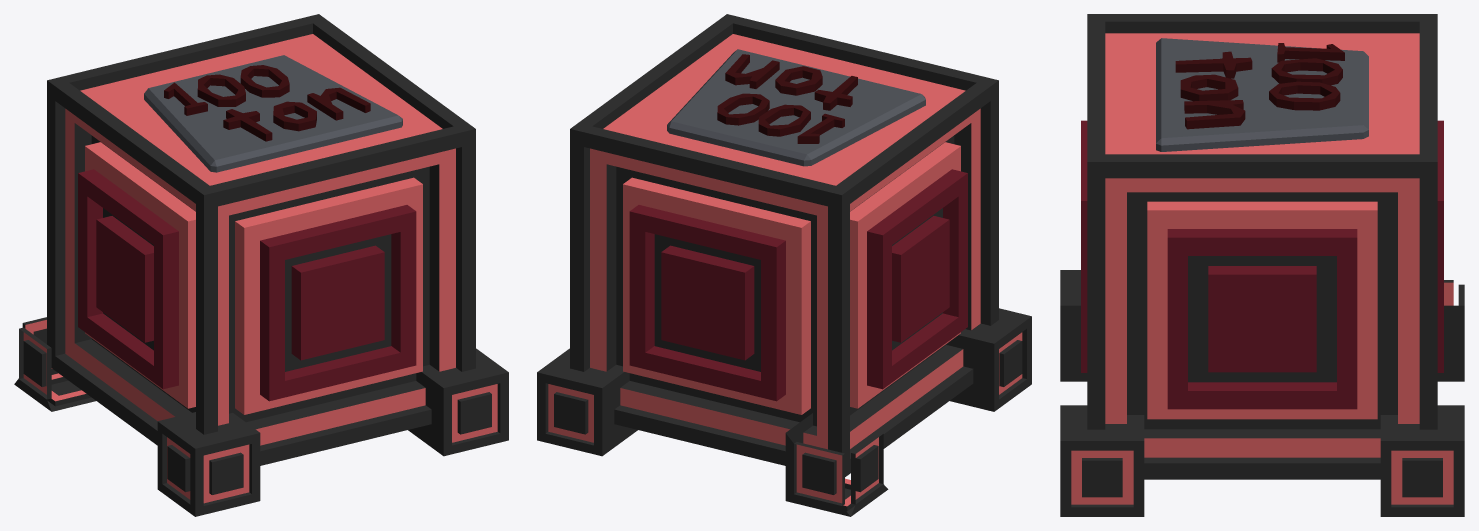
Rendered from HeavyBlock.fbx.
The picture shows the model from 3 angles, left to right: view 1: azimuth 30°, elevation 25°; view 2: azimuth 150°, elevation 25°; view 3: azimuth 270°, elevation 25°; orthographic projection. The views are drawn at different scales.
Parts seen in each view (by area): view 1: Mesh; view 2: Mesh; view 3: Mesh.
Boxes of the visible parts, left/top/right/bottom form: Mesh: left=14, top=14, right=508, bottom=516; Mesh: left=537, top=14, right=1031, bottom=516; Mesh: left=1060, top=14, right=1464, bottom=516.
Size of the model in its own units: 0.8919 by 0.8562 by 0.8919.
